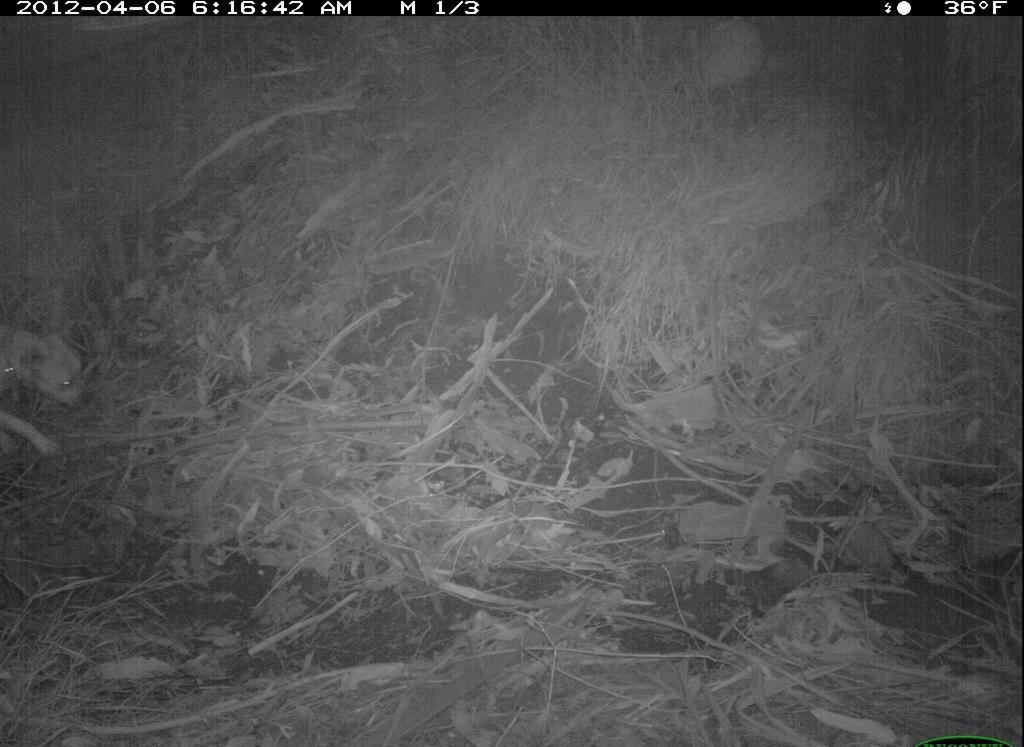dog: (1, 319, 98, 457)
